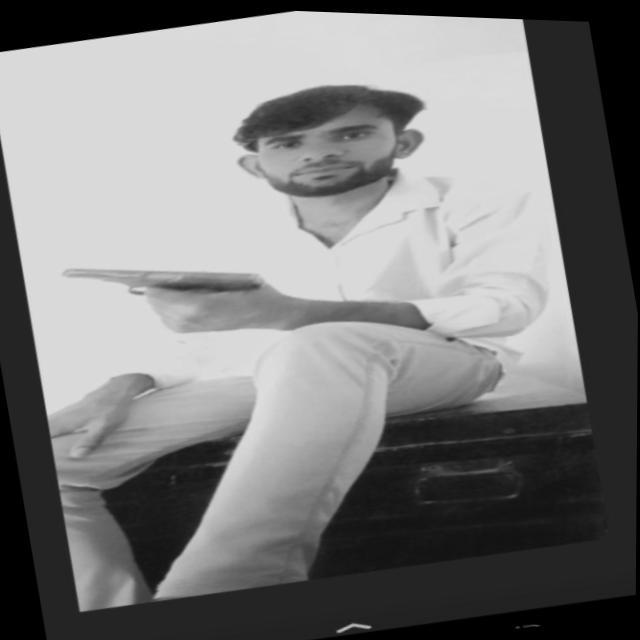weapon: (54, 230, 282, 352)
